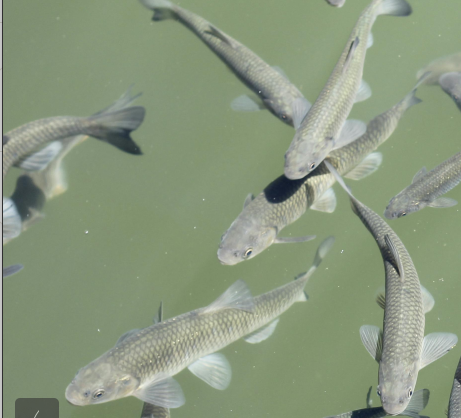fishLarge: (62, 236, 335, 408), (215, 69, 431, 269), (322, 159, 458, 411), (282, 40, 373, 180), (0, 104, 145, 173), (209, 47, 307, 128), (383, 153, 461, 221)
